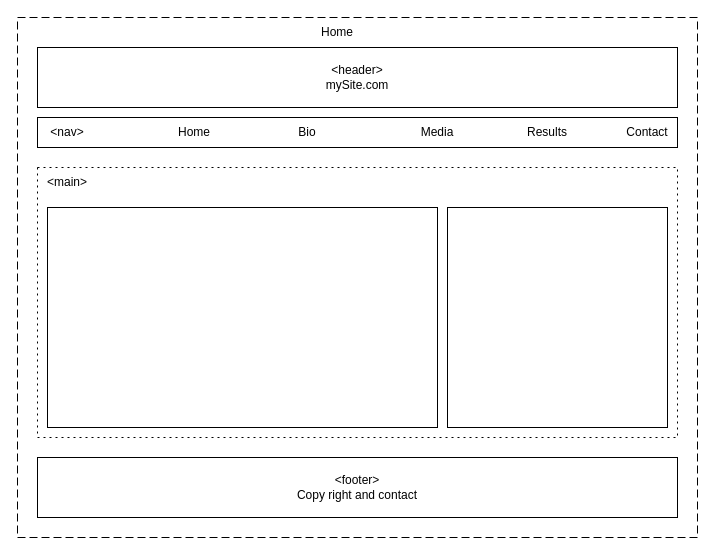
The diagram is 715 pixels wide and 555 high, and some of its shapes have lost their labels. Here are the shapes that lost their labels. From the top down, the centre of each, then its label:
At point 242,317: "<article> who i am".
At point 557,317: "<aside> Skill Snapshot".
